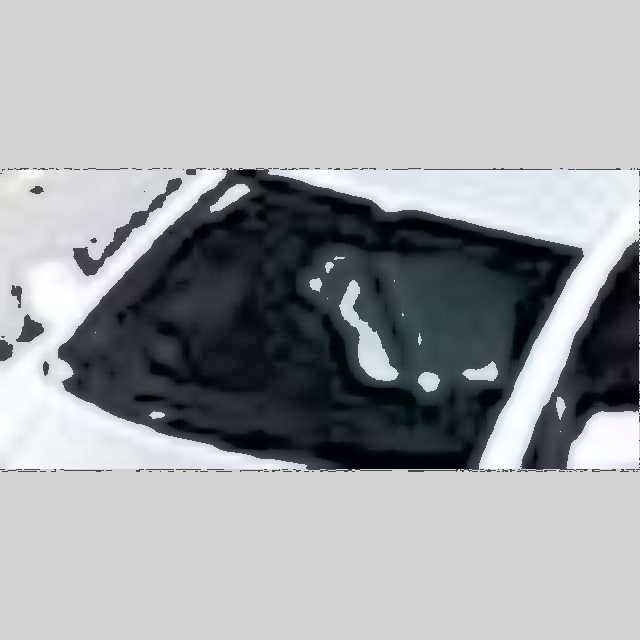pakai: (274, 212, 499, 403)
